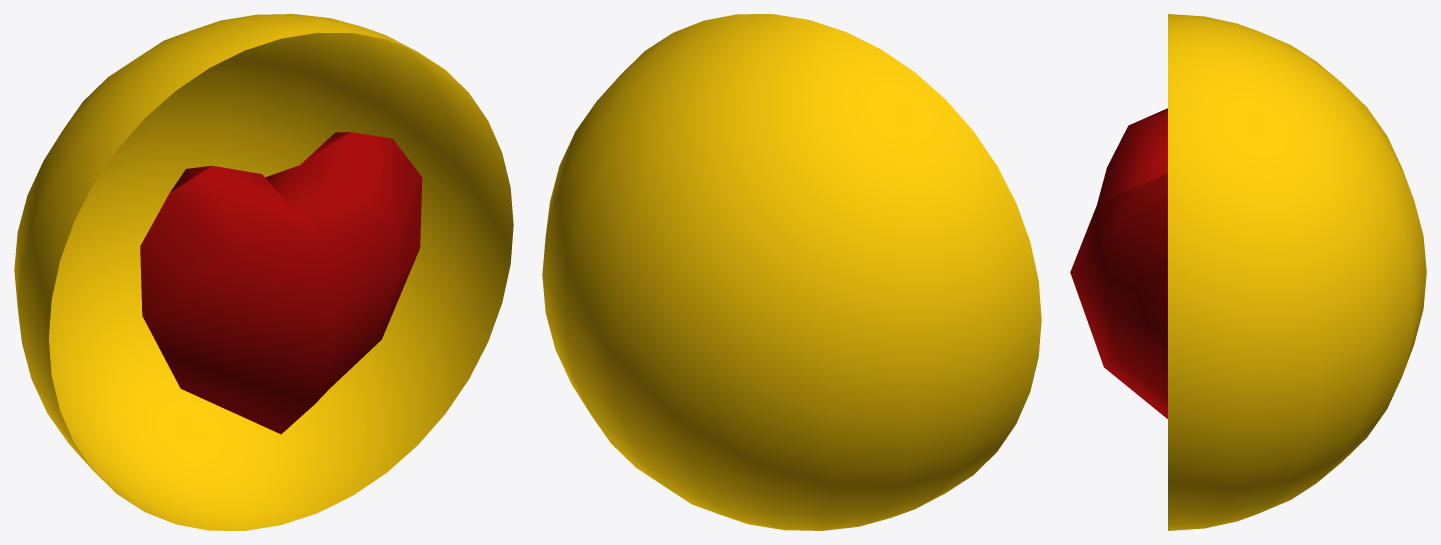
Rendered from item2.fbx.
3 views of the same model, side by side, from view 1: azimuth 30°, elevation 25°; view 2: azimuth 150°, elevation 25°; view 3: azimuth 270°, elevation 25° (orthographic). The views are drawn at different scales.
Parts seen in each view (by area): view 1: pSphere2; view 2: pSphere2; view 3: pSphere2.
Part boxes in pixels (x1,y1,x2,y2): pSphere2: [14, 14, 513, 530]; pSphere2: [542, 14, 1041, 530]; pSphere2: [1070, 14, 1426, 530].
Size of the model in its own units: 140 by 140 by 96.49.
